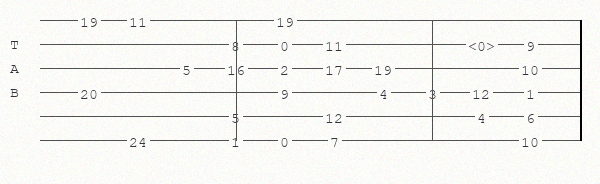0: (280, 134, 293, 147), (280, 38, 293, 51)
1: (231, 134, 244, 147), (526, 86, 539, 99)
10: (521, 134, 543, 147), (521, 62, 543, 75)
11: (129, 14, 151, 27), (325, 38, 347, 51)
12: (325, 110, 347, 123), (472, 86, 494, 99)
16: (227, 62, 249, 75)
17: (325, 62, 347, 75)
19: (80, 14, 102, 27), (276, 14, 298, 27), (374, 62, 396, 75)
2: (280, 62, 293, 75)
20: (80, 86, 102, 99)
24: (129, 134, 151, 147)
3: (428, 86, 441, 99)
4: (379, 86, 392, 99), (477, 110, 490, 123)
5: (182, 62, 195, 75), (231, 110, 244, 123)
6: (526, 110, 539, 123)
7: (330, 134, 343, 147)
8: (231, 38, 244, 51)
9: (280, 86, 293, 99), (526, 38, 539, 51)
harmonic: (468, 38, 499, 51)
